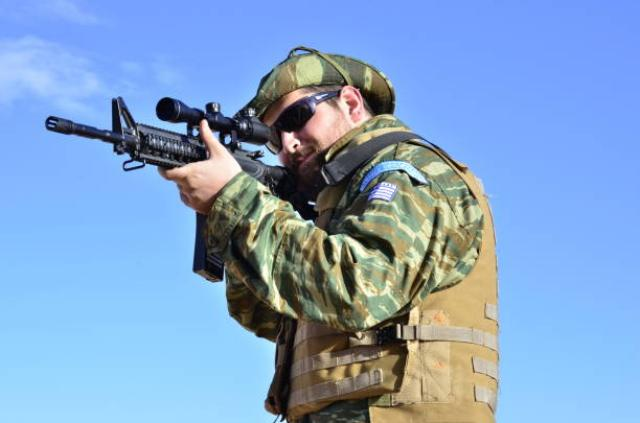other: (234, 49, 502, 422)
